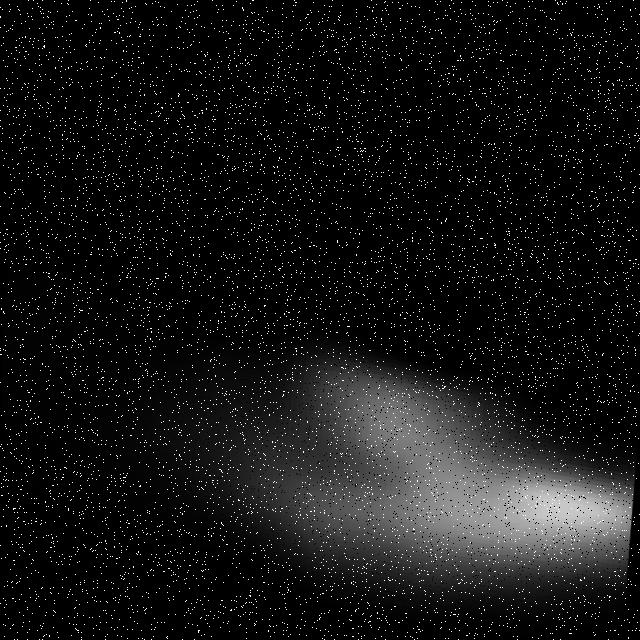person: (148, 273, 640, 640)
